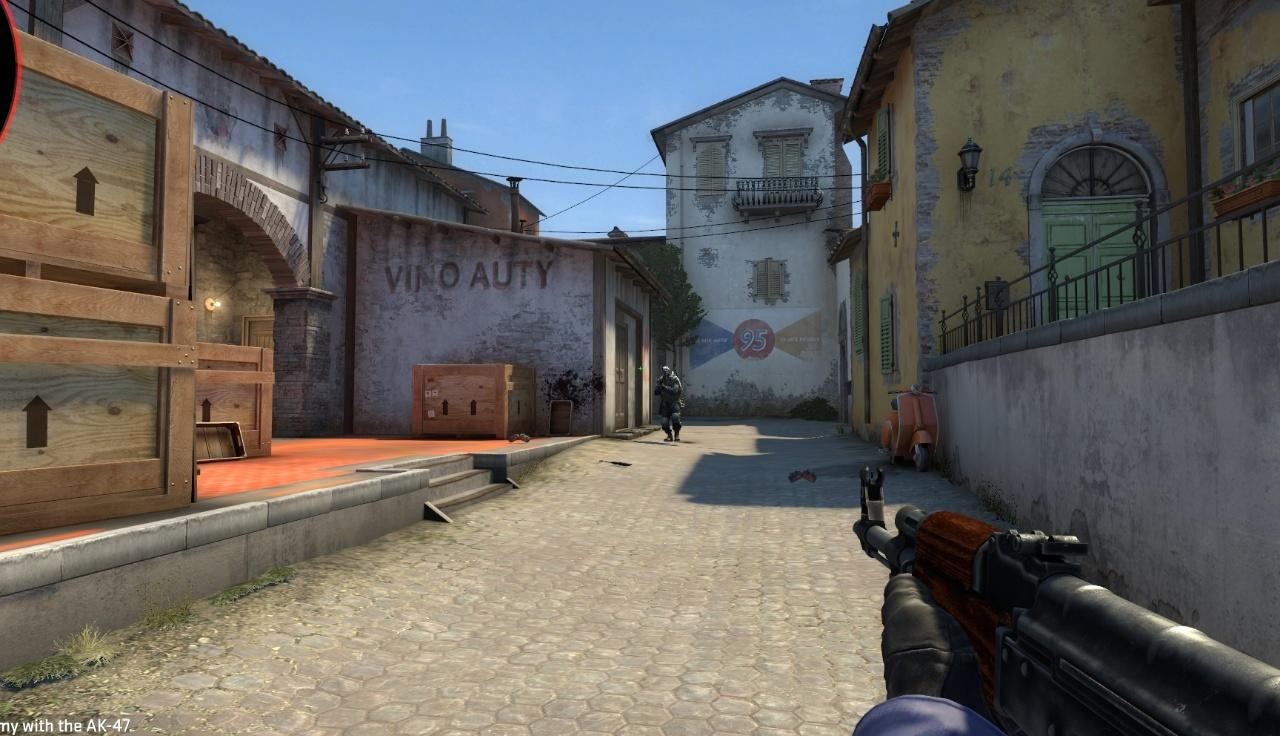ct: (657, 366, 683, 442)
cthead: (660, 367, 671, 381)
rifle: (848, 465, 1280, 736)
